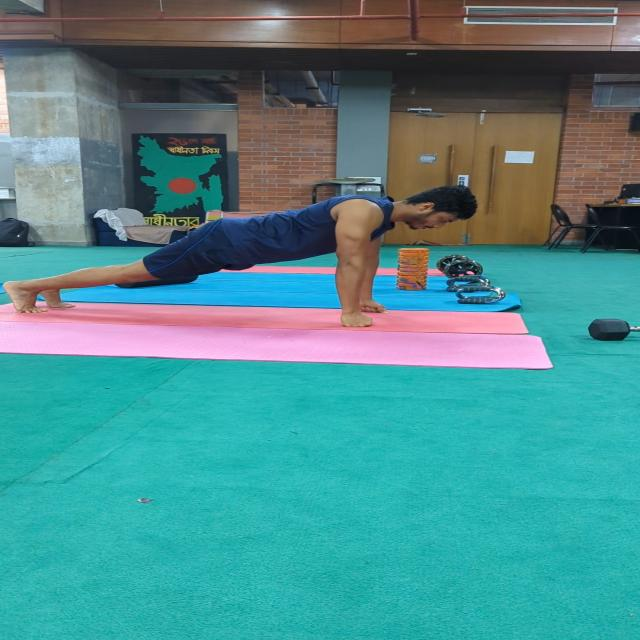Normal_PushUps: (0, 180, 504, 350)
